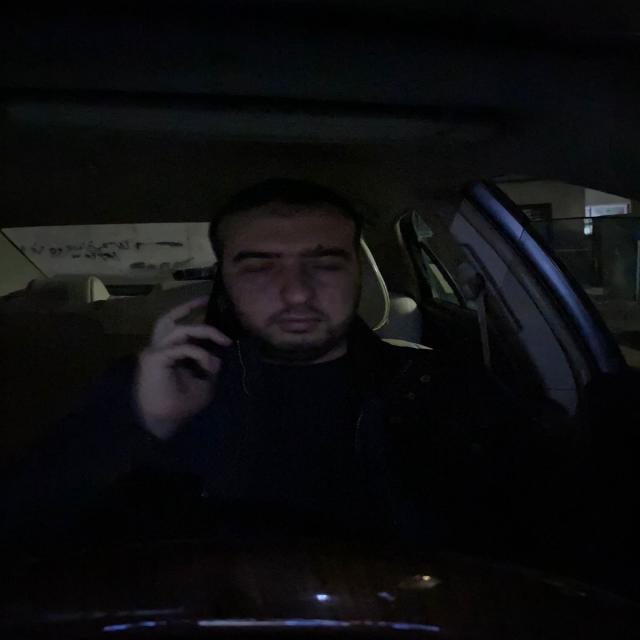mobile: (184, 283, 244, 380)
person: (224, 202, 370, 350)
